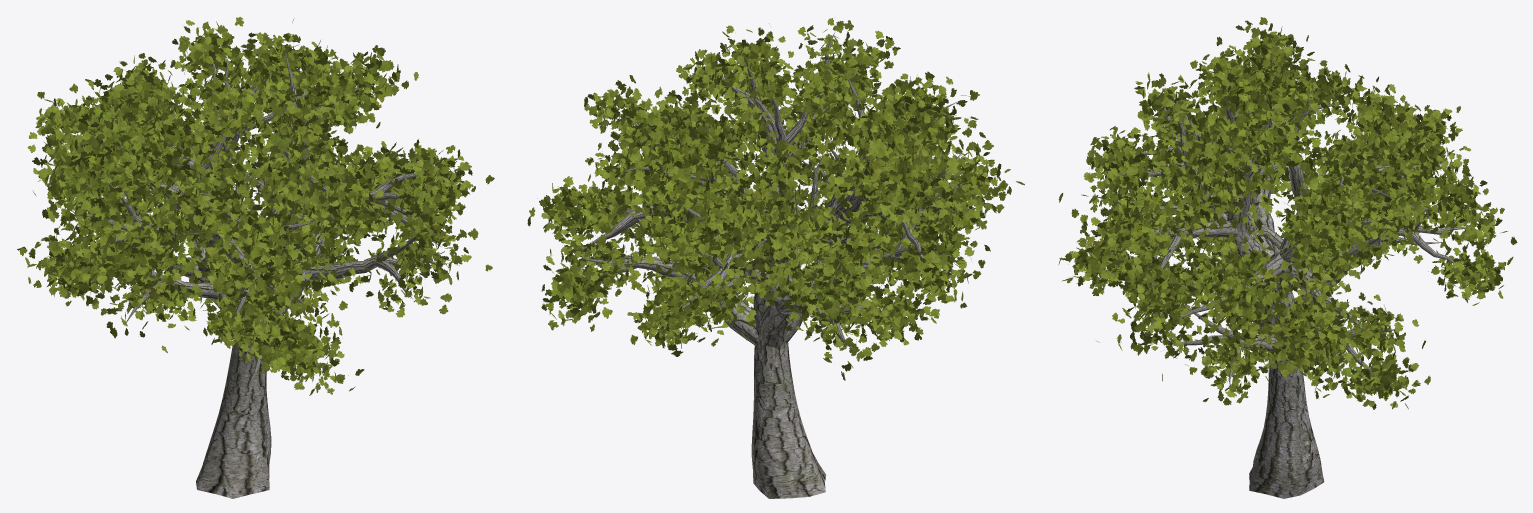
File: maple_easytree_v019.glb
3 renders of one model, left to right at view 1: azimuth 30°, elevation 25°; view 2: azimuth 150°, elevation 25°; view 3: azimuth 270°, elevation 25°, orthographic. The views are drawn at different scales.
Parts seen in each view (by area): view 1: Arce foliage cards, Arce_EasyTree_V019_Proof; view 2: Arce foliage cards, Arce_EasyTree_V019_Proof; view 3: Arce foliage cards, Arce_EasyTree_V019_Proof.
Part boxes in pixels (x1=…): Arce foliage cards: x1=17, y1=17, x2=494, y2=395; Arce_EasyTree_V019_Proof: x1=47, y1=48, x2=448, y2=498; Arce foliage cards: x1=527, y1=18, x2=1024, y2=380; Arce_EasyTree_V019_Proof: x1=574, y1=31, x2=982, y2=498; Arce foliage cards: x1=1058, y1=17, x2=1517, y2=409; Arce_EasyTree_V019_Proof: x1=1094, y1=59, x2=1465, y2=498.
Size of the model in its own units: 7.14 by 7.11 by 6.94.
2 materials, 2 textured.
